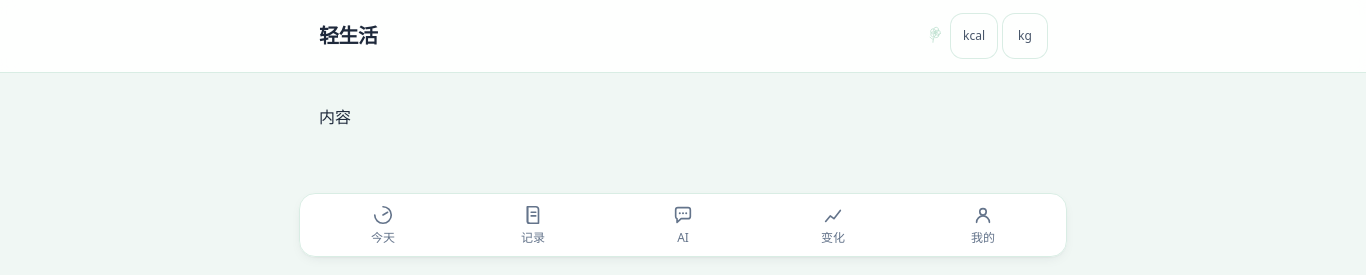
D-3 · 顶栏体重单位切换按钮 › ★ 顶栏只剩两个单位切换按钮（深色 2026-10-13 迁至「我的 → 显示」），体重按钮可在 kg ↔ 斤 间切换并写本地偏好
Expected: the button with aria-label "切换热量单位" is shown, [951, 14, 997, 58]
Click the button with aria-label "切换体重单位": [1025, 36] box [1003, 14, 1047, 58]
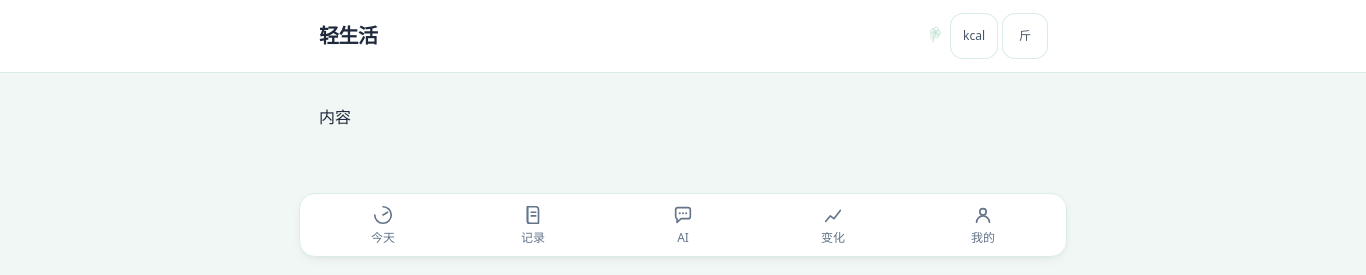
Result: the button named "切换体重单位" reads "斤" at [1003, 14, 1047, 58]
